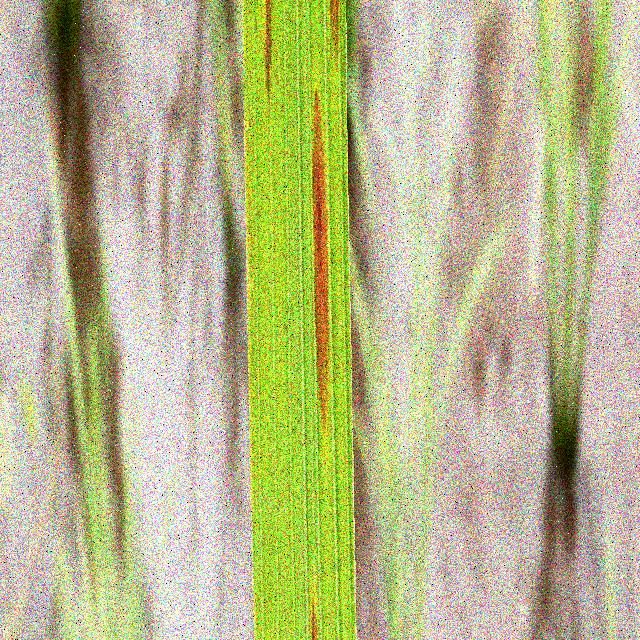NBS: (313, 90, 330, 432), (265, 0, 272, 98), (330, 0, 339, 61), (311, 600, 319, 640)
